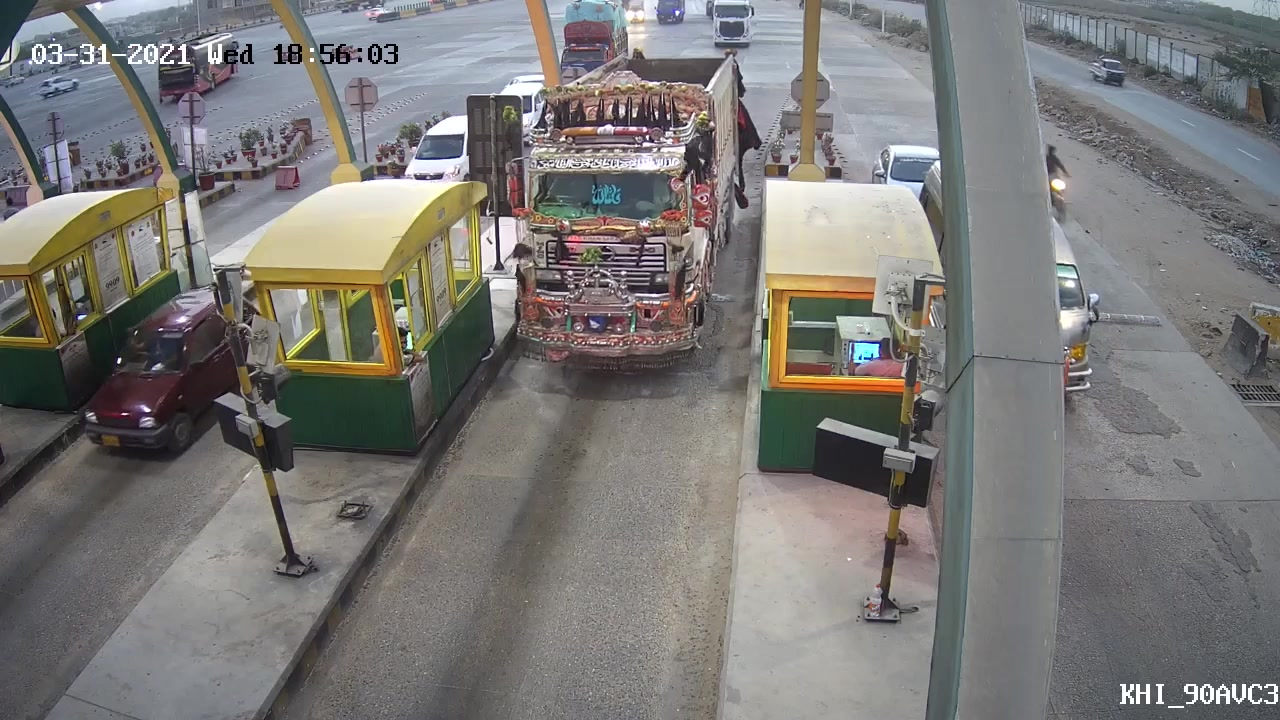F5: (494, 124, 733, 375)
